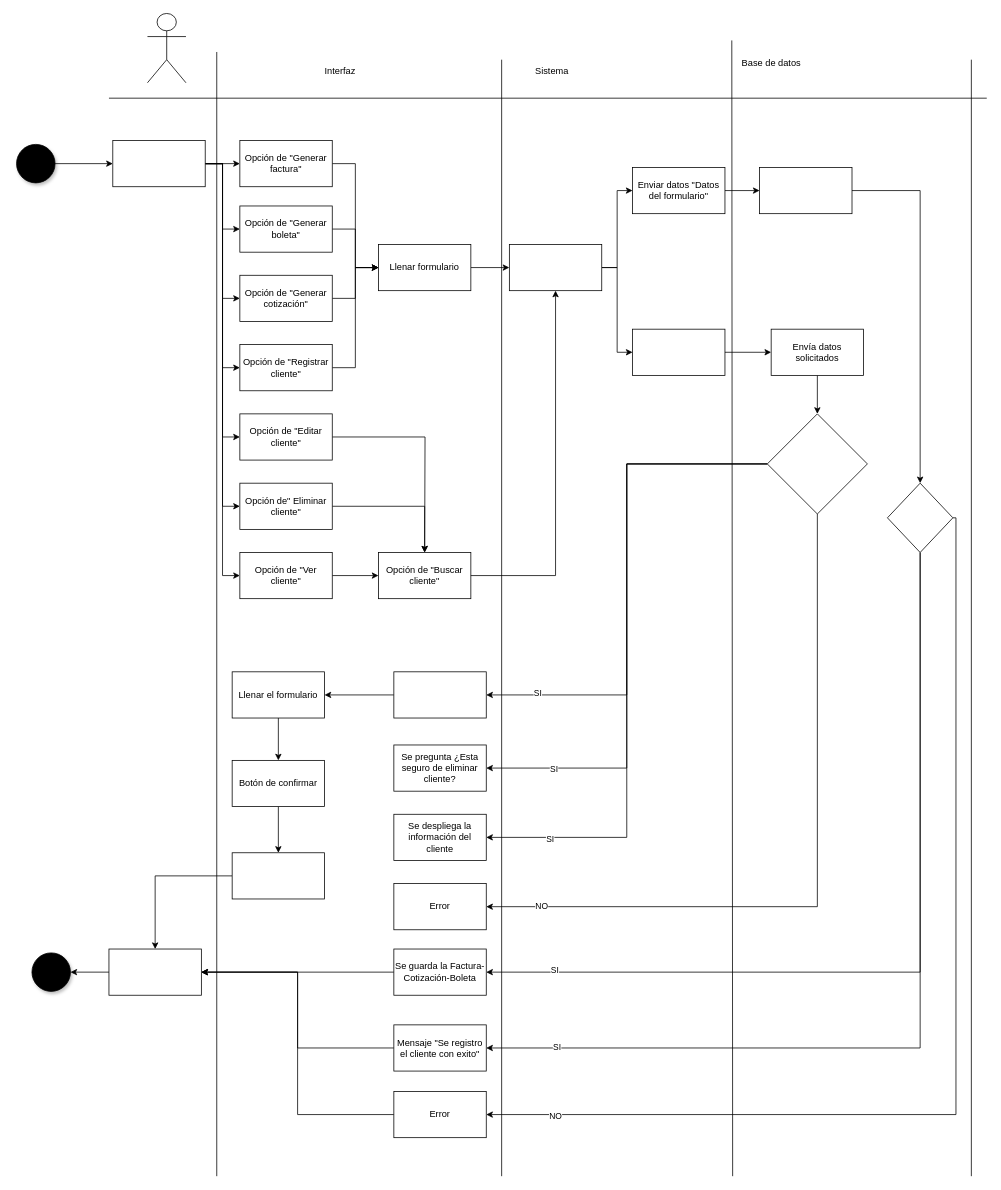
This 1001x1190 diagram has some shape labels left out. The centre of each missing label's shape, as x and y in pixels:
Cerrar Sesión: (x=154, y=971)
Guardar: (x=278, y=875)
Guardar datos: (x=805, y=190)
Iniciar sesión: (x=158, y=163)
Se despliega el formulario de edición de cliente: (x=439, y=694)
Se valida que los campos sean llenados correctamente: (x=555, y=267)
Solicitar datos del cliente buscado: (x=678, y=351)
Usuario: (x=166, y=48)
¿Los datos se envían correctamente?: (x=817, y=463)
¿Los datos se guardan?: (x=920, y=517)
